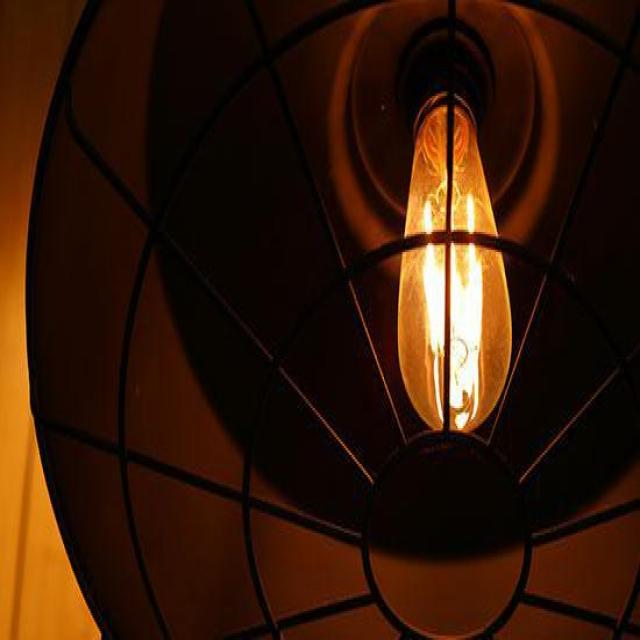other: (399, 117, 512, 419)
